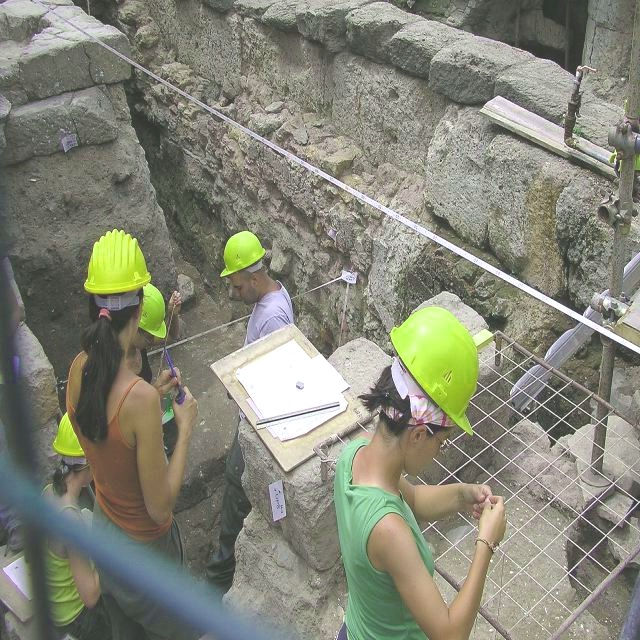Con_Casco: (379, 307, 480, 463), (85, 230, 145, 340), (221, 230, 263, 304)
